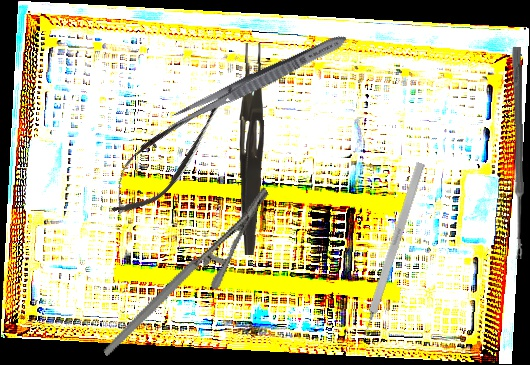Dressing Forceps: (162, 28, 351, 135), (237, 42, 266, 256)
Hook Surgical: (356, 161, 426, 350)
Micro Scissor: (95, 72, 248, 229)
Needle Holder: (69, 186, 302, 357)
Surgical Spoon: (511, 46, 525, 260)
